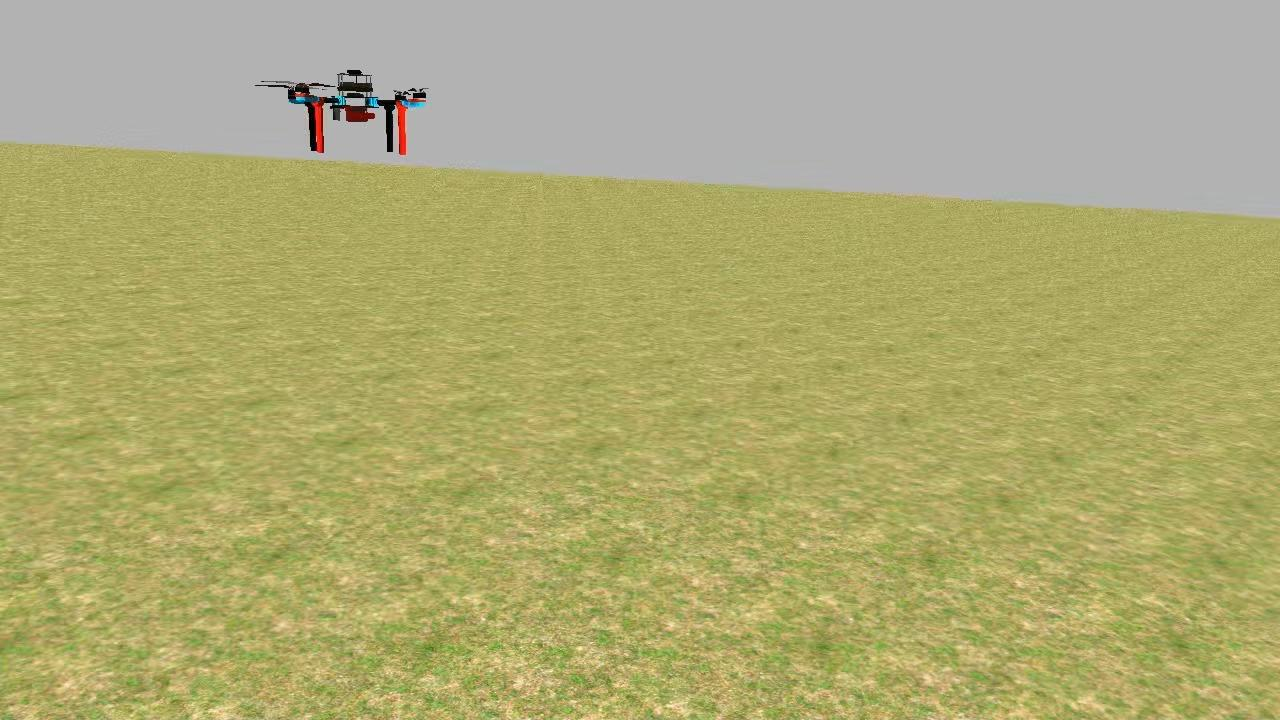UAV: (282, 62, 432, 162)
